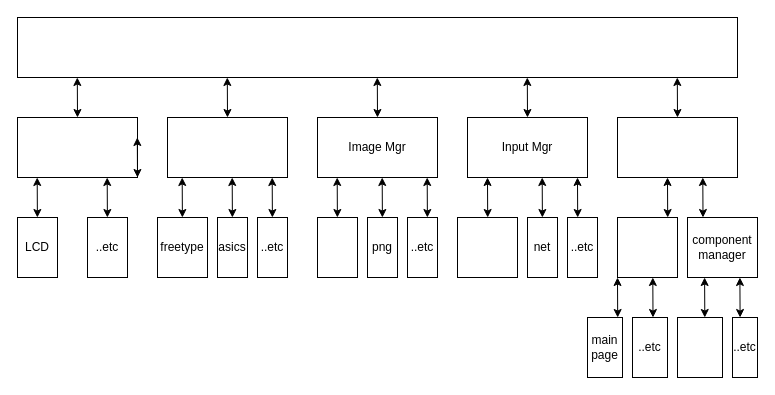
The diagram is 775 pixels wide and 395 high, and some of its shapes have lost their labels. The shapes that lost their labels are listed below. From the top down, each one's centre as x and y in pixels, then its label:
At [377,47]: "Main App".
At [77,147]: "Display Mgr".
At [227,147]: "Font Mgr".
At [677,147]: "UI".
At [337,247]: "jpg".
At [487,247]: "touch screen".
At [647,247]: "page manager".
At [699,347]: "button".
